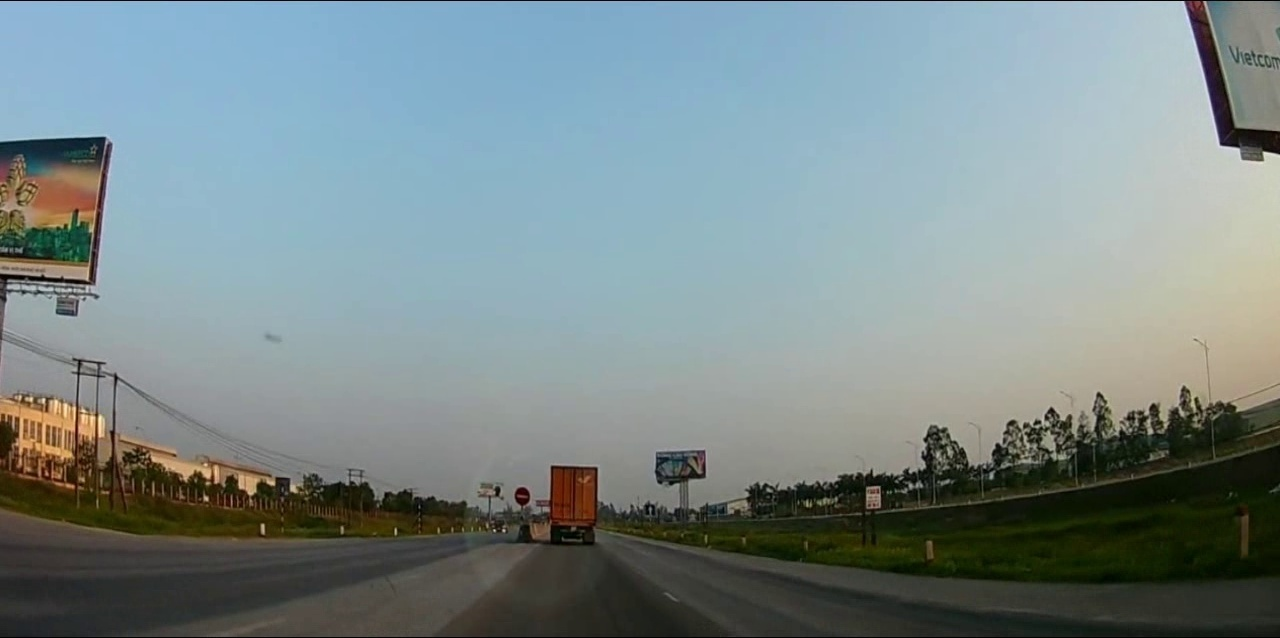Cam di nguoc chieu: (514, 486, 530, 506)
